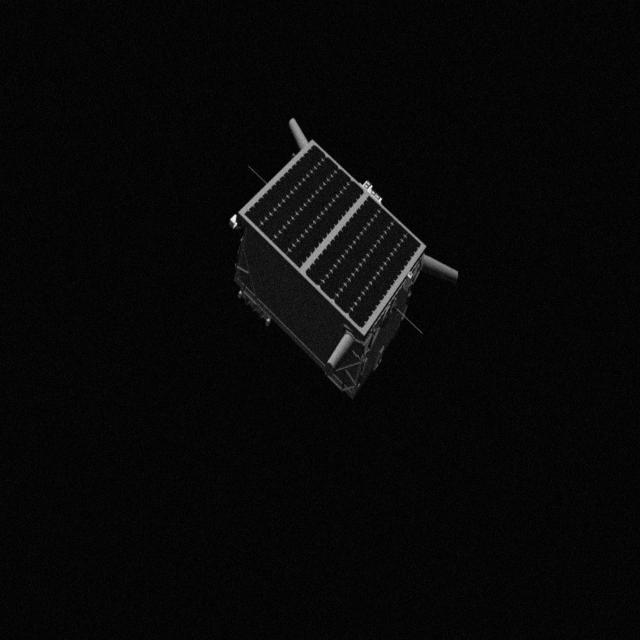medium_debris: (226, 110, 466, 404)
